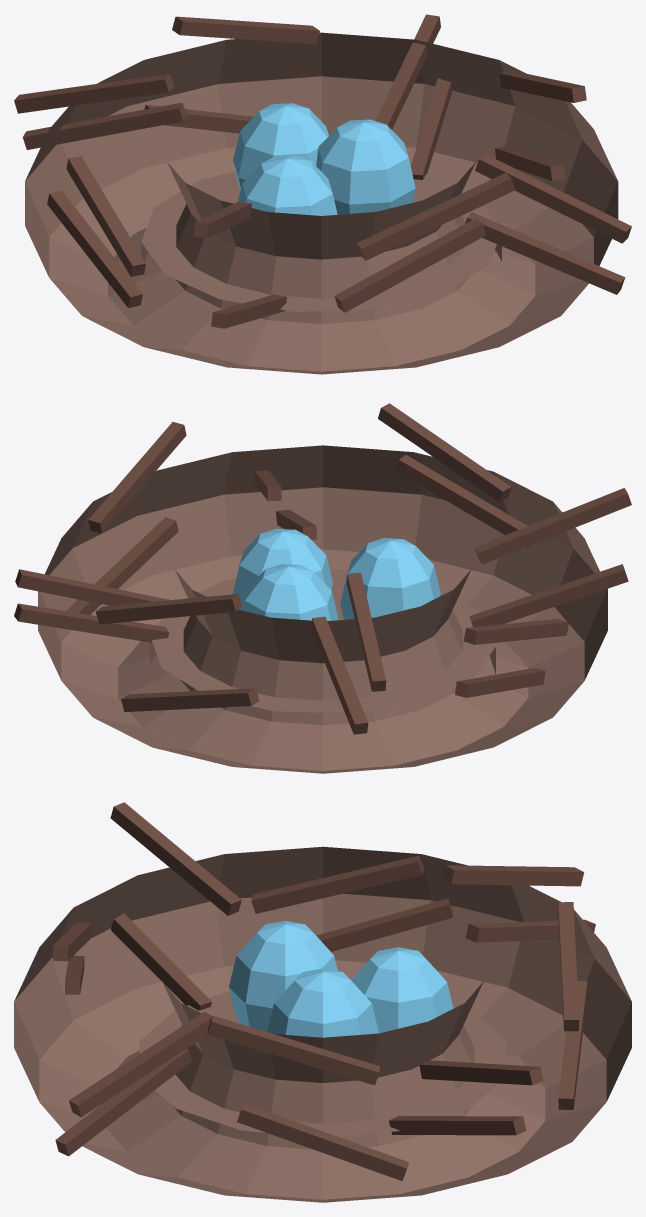
Rendered from fagelbo.glb.
The picture shows the model from 3 angles, top to bottom: view 1: azimuth 30°, elevation 25°; view 2: azimuth 150°, elevation 25°; view 3: azimuth 270°, elevation 25°; orthographic projection. The views are drawn at different scales.
Visible parts, largest first — view 1: fagelbo; view 2: fagelbo; view 3: fagelbo.
Part boxes in pixels (left/top/right/bottom): fagelbo: left=14, top=14, right=631, bottom=374; fagelbo: left=14, top=403, right=631, bottom=773; fagelbo: left=14, top=802, right=631, bottom=1202.
Bounding box in the file's own units: 0.5 × 0.1664 × 0.4924.
